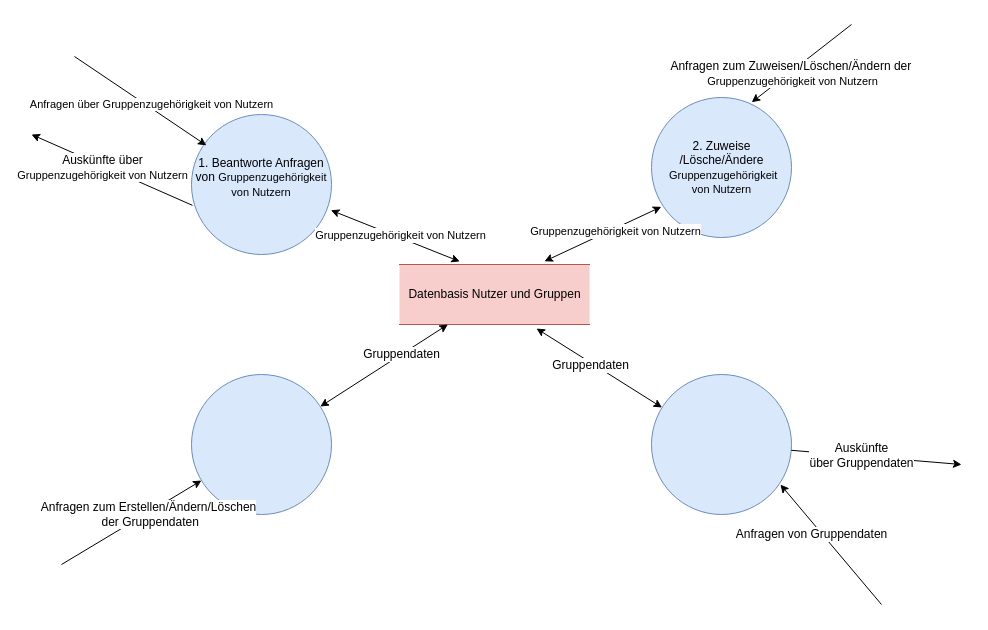
This 988x630 diagram has some shape labels left out. Each missing label, with the centre of its shape:
"3. Erstelle/Lösche /Ändere Gruppen" goes at point (261, 444).
"4. Beantworte Anfragen von Gruppendaten" goes at point (721, 444).
